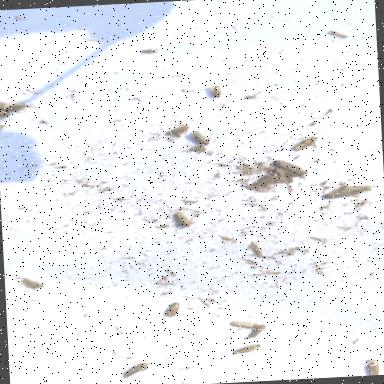pbw: (323, 184, 374, 198), (272, 158, 308, 176), (290, 134, 319, 152), (122, 361, 150, 376), (162, 122, 190, 136), (229, 318, 259, 330), (191, 128, 211, 145), (366, 356, 382, 374), (174, 210, 190, 228), (245, 323, 267, 336), (166, 300, 180, 318), (240, 342, 262, 352), (211, 83, 222, 97), (70, 380, 92, 384)
